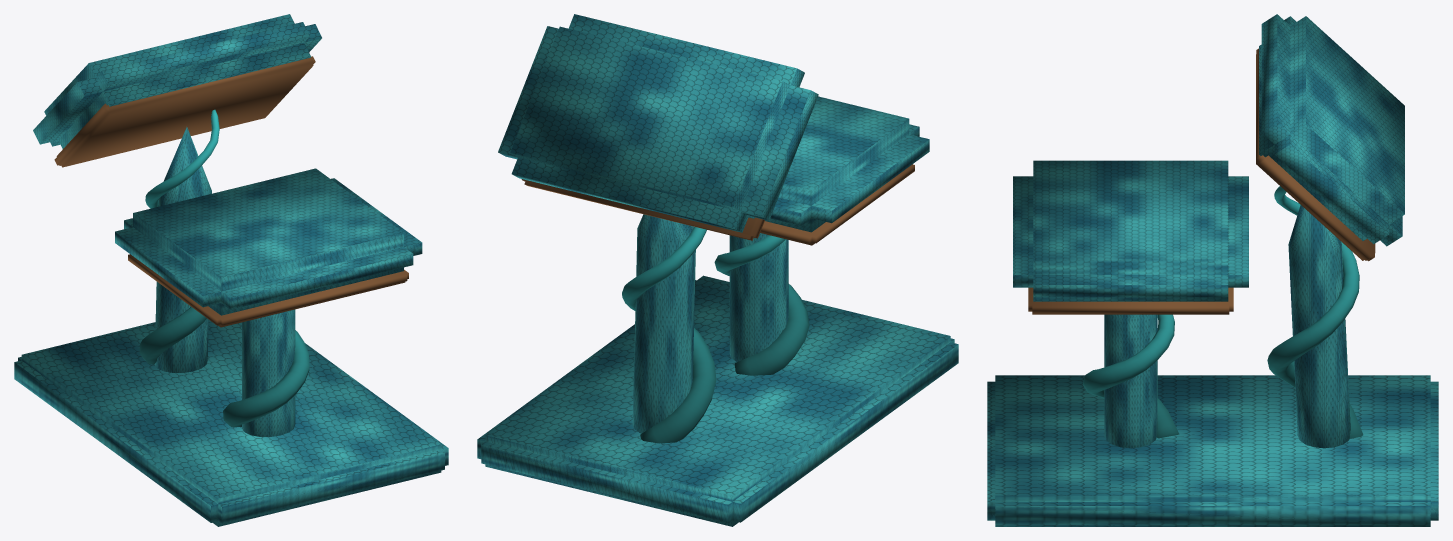
File: KrakenBench.glb
3 renders of one model, left to right at view 1: azimuth 30°, elevation 25°; view 2: azimuth 150°, elevation 25°; view 3: azimuth 270°, elevation 25°, orthographic. The views are drawn at different scales.
Parts seen in each view (by area): view 1: KrakenBench; view 2: KrakenBench; view 3: KrakenBench.
Part boxes in pixels (<box>): KrakenBench: <box>14,14,448,526</box>; KrakenBench: <box>477,14,958,526</box>; KrakenBench: <box>987,14,1438,526</box>.
Size of the model in its own units: 2.15 by 3.11 by 3.19.
1 material, 1 textured.
